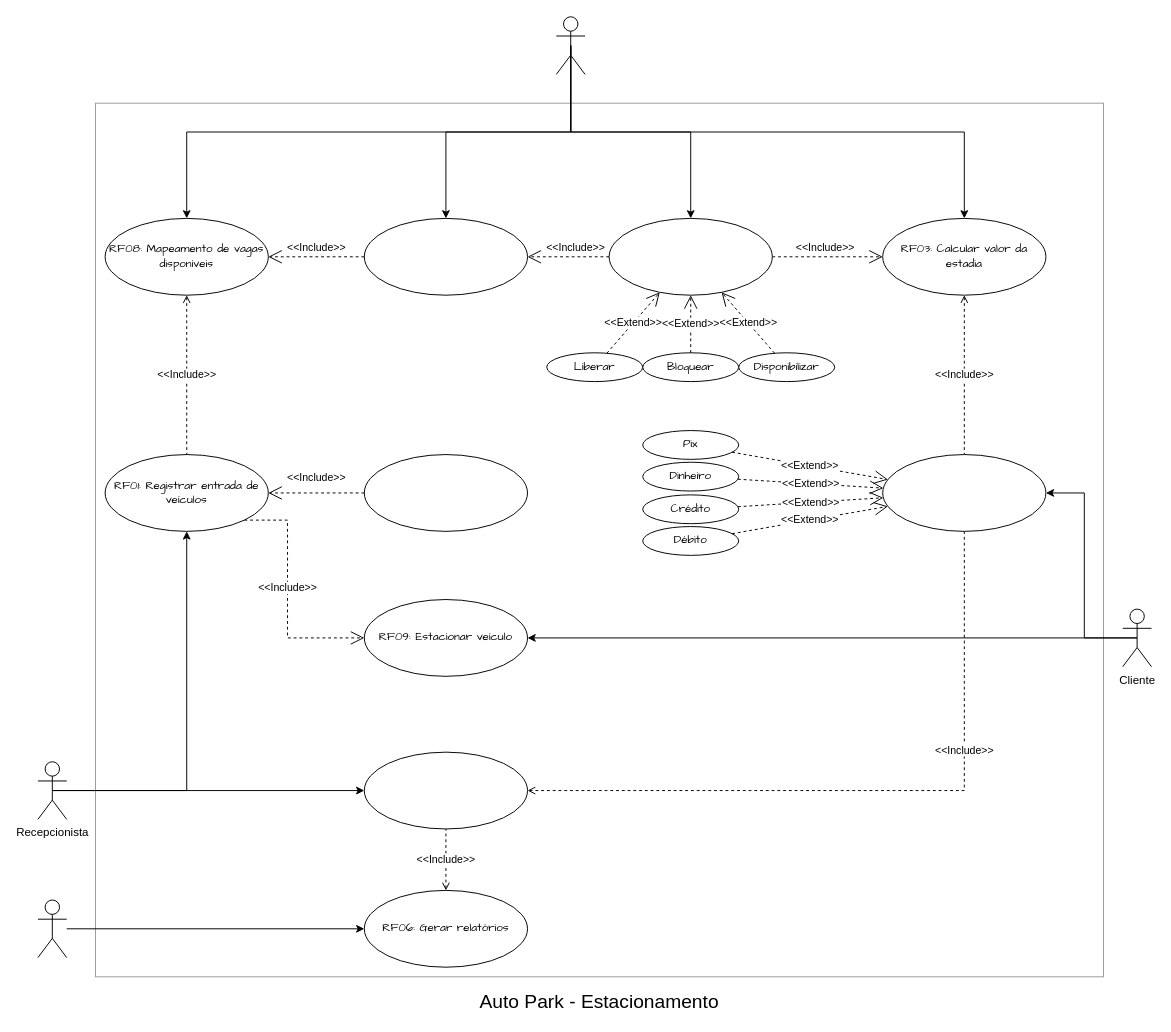
The diagram is 1171 pixels wide and 1032 high, and some of its shapes have lost their labels. The shapes that lost their labels are listed below. From the top down, each one's box as (x1, y1, x2, y2) in pixels, then its label:
(555, 16, 585, 74): Sistema
(363, 217, 528, 295): RF04: Exibir vagas disponíveis
(608, 217, 772, 295): RF07: Gestão de vagas
(363, 454, 528, 531): RF10: Registrar veículo
(882, 454, 1046, 531): RF05: Realizar pagamento
(363, 751, 528, 829): RF02: Registrar saída de veículos
(37, 899, 67, 958): Administrador
